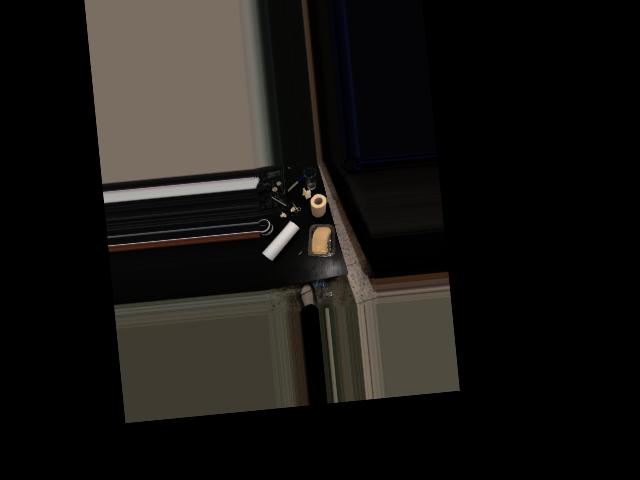cheese: (303, 221, 338, 262)
